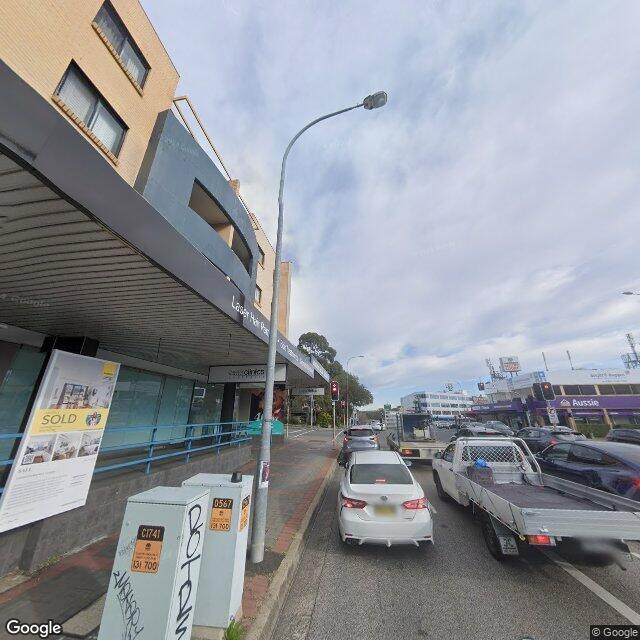steel-pole: (249, 203, 285, 563), (540, 379, 556, 431), (332, 379, 337, 449), (346, 367, 348, 429)
streetlight: (279, 90, 388, 204), (347, 355, 364, 367)
traffic-light: (531, 381, 557, 402), (330, 381, 340, 400)
